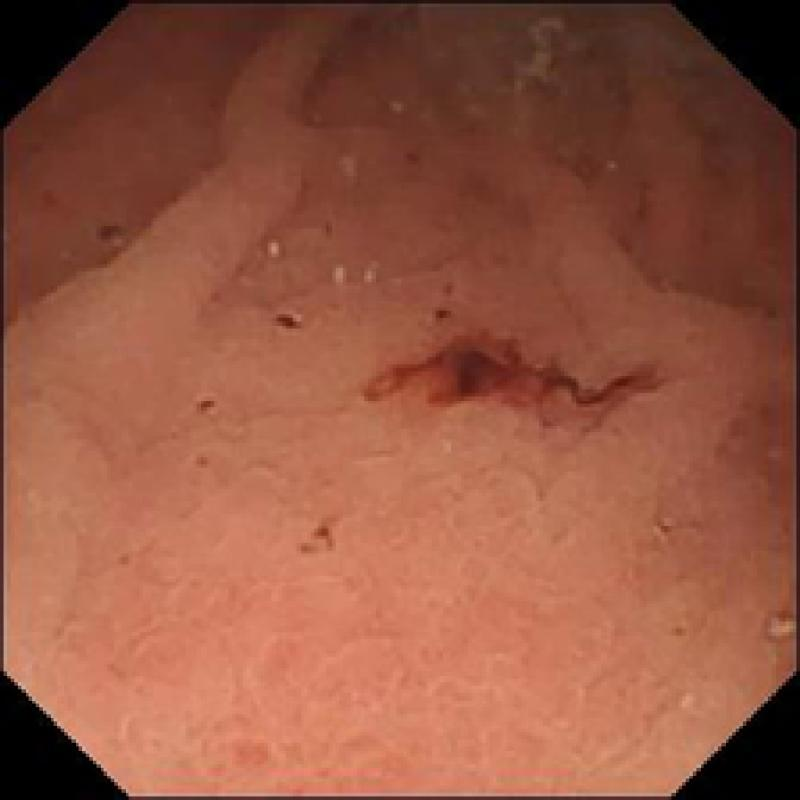bleeding: (300, 307, 611, 400)
